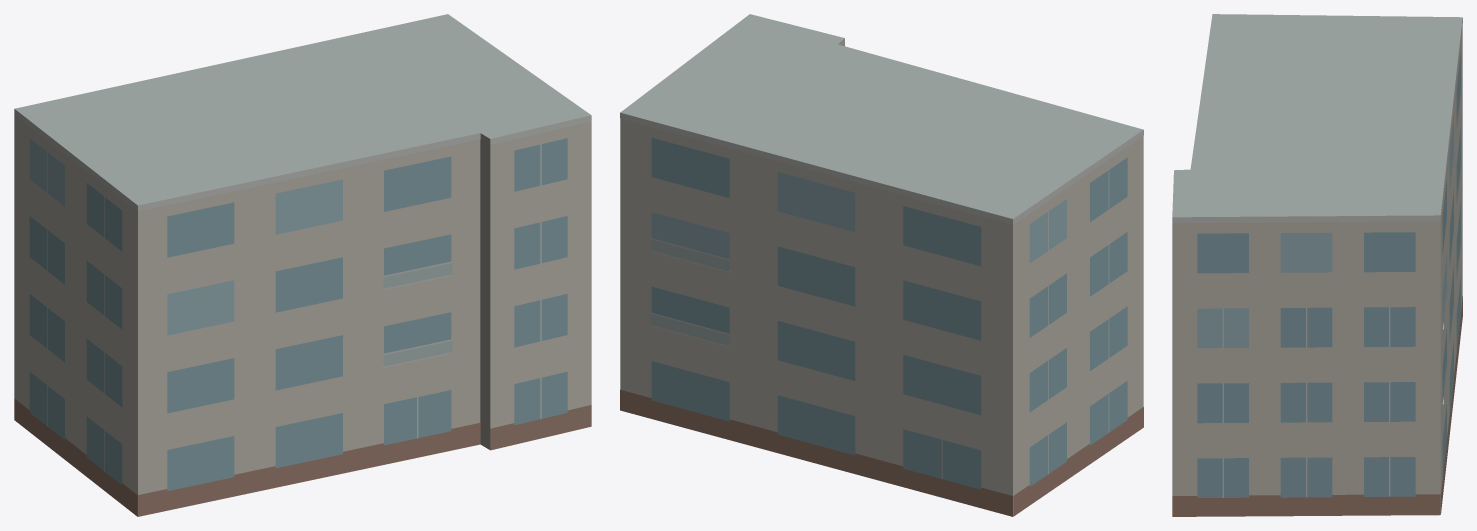
The model's file is survey-upis-32673110.glb.
3 renders of one model, left to right at view 1: azimuth 30°, elevation 25°; view 2: azimuth 150°, elevation 25°; view 3: azimuth 270°, elevation 25°, orthographic. The views are drawn at different scales.
Parts seen in each view (by area): view 1: survey-upis-32673110.tmp; view 2: survey-upis-32673110.tmp; view 3: survey-upis-32673110.tmp.
Boxes of the visible parts, x1,y1,x2,y2 form: survey-upis-32673110.tmp: [14, 14, 591, 516]; survey-upis-32673110.tmp: [620, 14, 1143, 516]; survey-upis-32673110.tmp: [1172, 14, 1462, 516].
Size of the model in its own units: 18.05 by 12.4 by 10.91.
